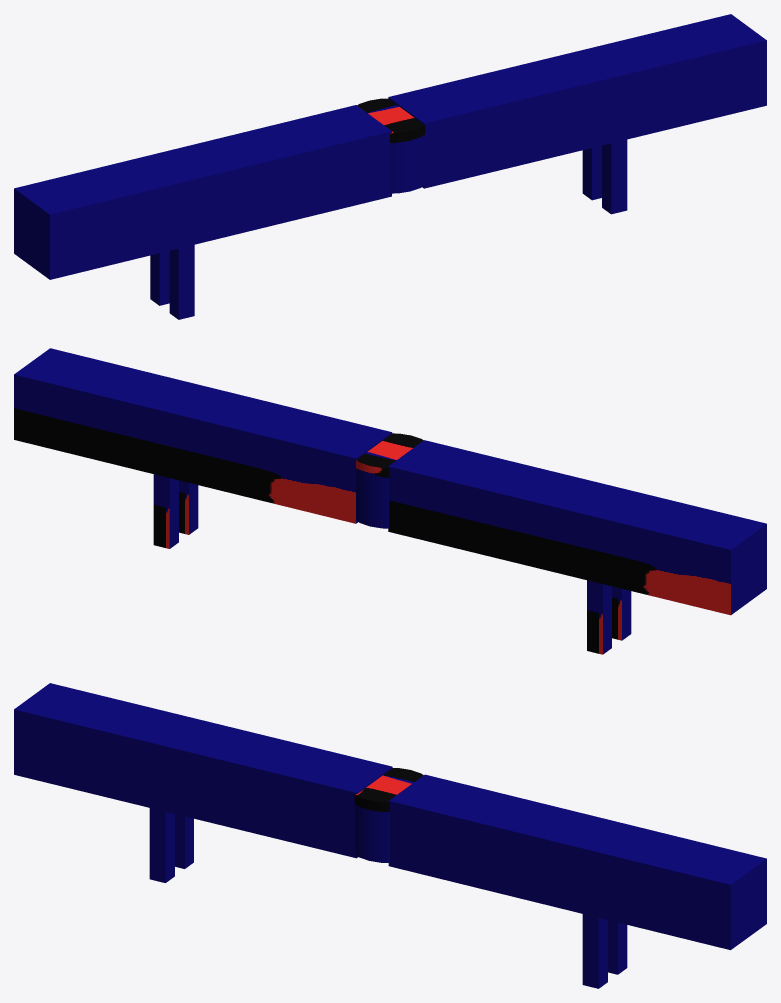
File: finger.obj
3 renders of one model, top to bottom at view 1: azimuth 30°, elevation 25°; view 2: azimuth 150°, elevation 25°; view 3: azimuth 330°, elevation 25°, orthographic.
Parts seen in each view (by area): view 1: pCube7, pCube8, pCylinder1; view 2: pCube7, pCube8, pCylinder1; view 3: pCube8, pCube7, pCylinder1.
Boxes of the visible parts, left/top/right/bottom form: pCube7: left=14, top=105, right=391, bottom=319; pCube8: left=388, top=14, right=766, bottom=214; pCylinder1: left=357, top=98, right=425, bottom=193; pCube7: left=388, top=440, right=766, bottom=654; pCube8: left=14, top=348, right=392, bottom=548; pCylinder1: left=356, top=433, right=423, bottom=528; pCube8: left=388, top=774, right=766, bottom=988; pCube7: left=14, top=683, right=392, bottom=882; pCylinder1: left=354, top=768, right=423, bottom=862.
Size of the model in its own units: 11.49 by 2.14 by 1.16.
1 material, 1 textured.
